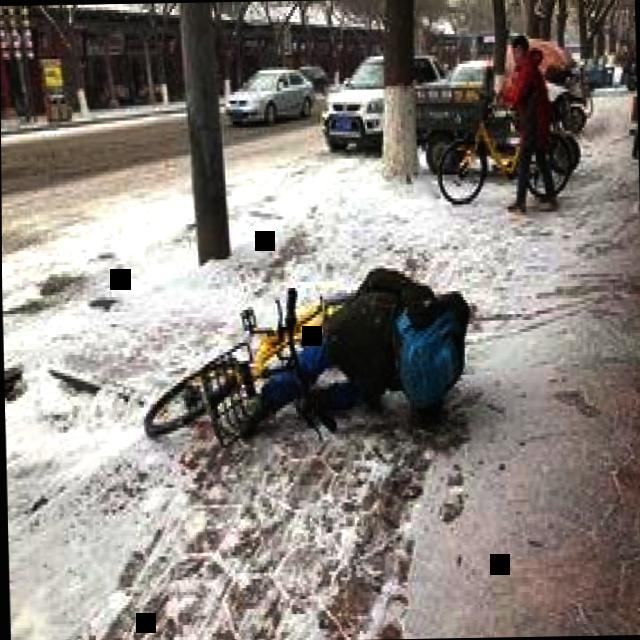Fall-Detected: (226, 236, 477, 442)
